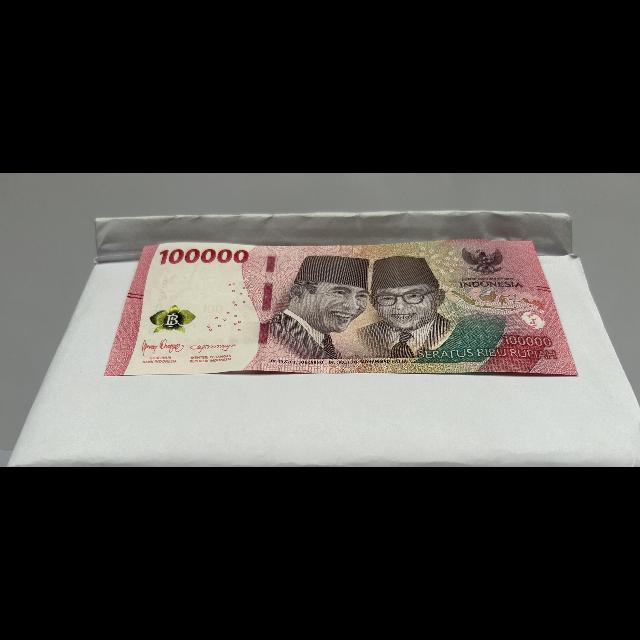Asli-100k: (98, 235, 583, 385)
Tinta-Asli-100k: (143, 303, 201, 335)
